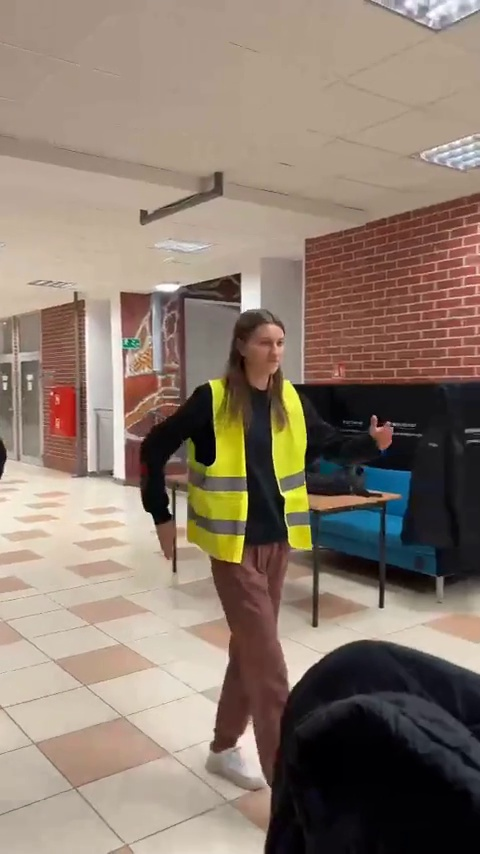vest: (144, 314, 384, 780)
